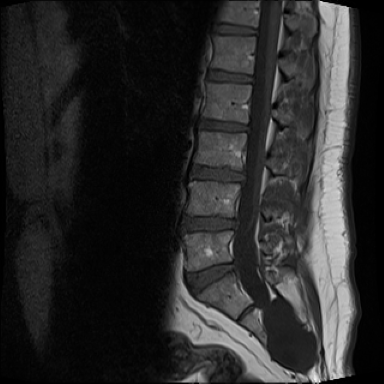Lumbar Disc Bulge (LDB): (175, 209, 244, 235)
Normal IVD: (180, 257, 238, 301), (186, 158, 246, 186), (193, 112, 250, 137), (202, 64, 255, 87), (207, 19, 261, 39)
Spinal Stenosis (SS): (224, 211, 243, 235)
